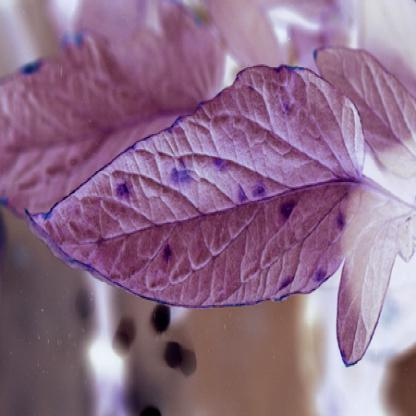Tomato mold leaf: (38, 57, 403, 363)
